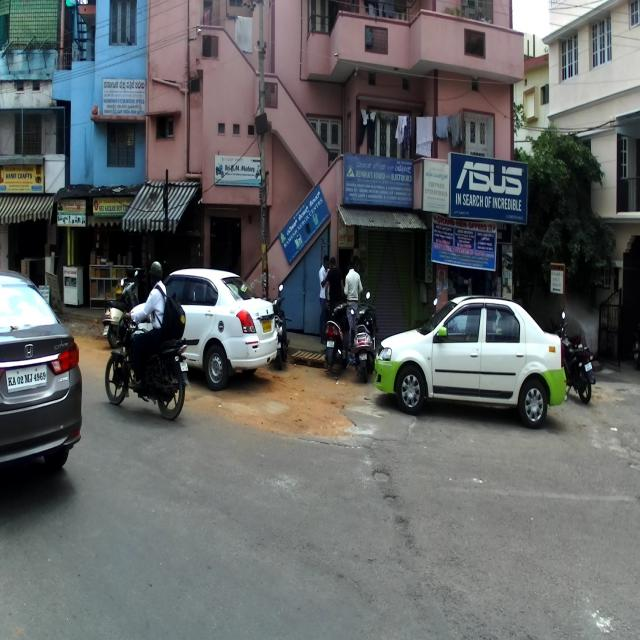car: (374, 294, 566, 429), (129, 266, 277, 390), (1, 268, 82, 476)
motorcycle: (106, 310, 188, 422), (558, 309, 595, 403)
scooter: (102, 266, 138, 350), (350, 293, 375, 383), (324, 302, 350, 376)
